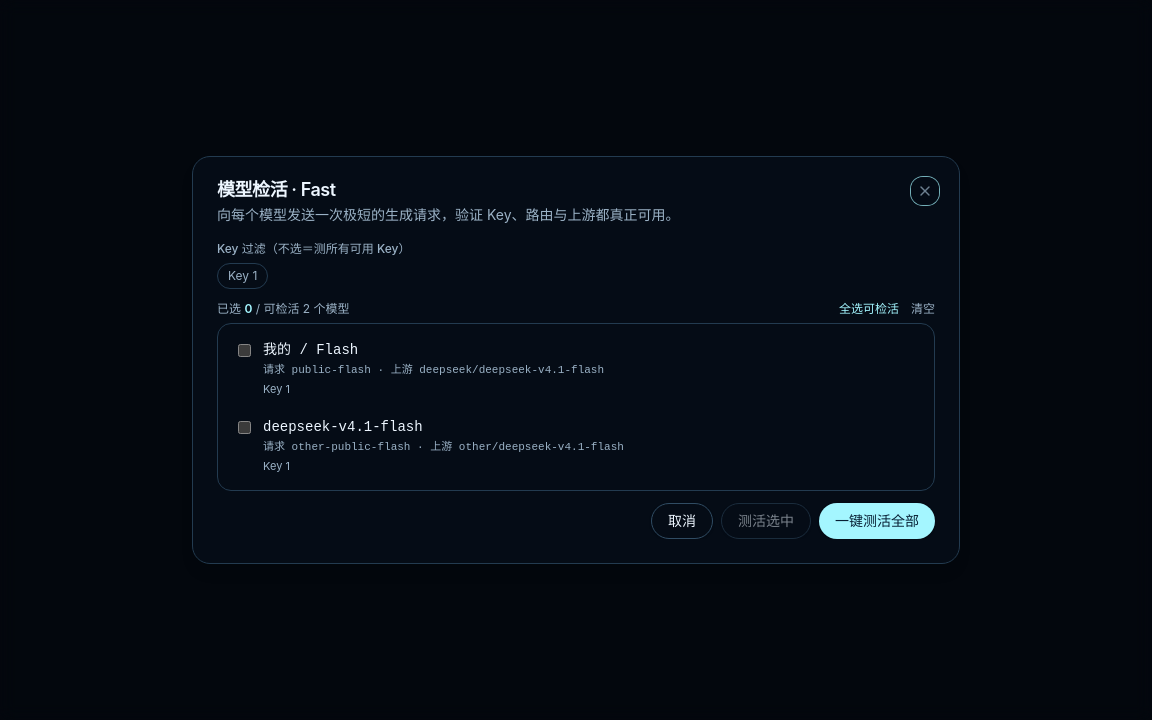
it: HealthCheckDialog › uses upstream display names in preview, retains full wire names, and selects original route IDs
Expected: the text "我的 / Flash" is shown, [263,340,358,360]
Expected: the text "deepseek-v4.1-flash" is shown, [263,417,423,437]
Click the checkbox labelled "我的 / Flash".
click(244, 350)  # box [238,344,251,357]
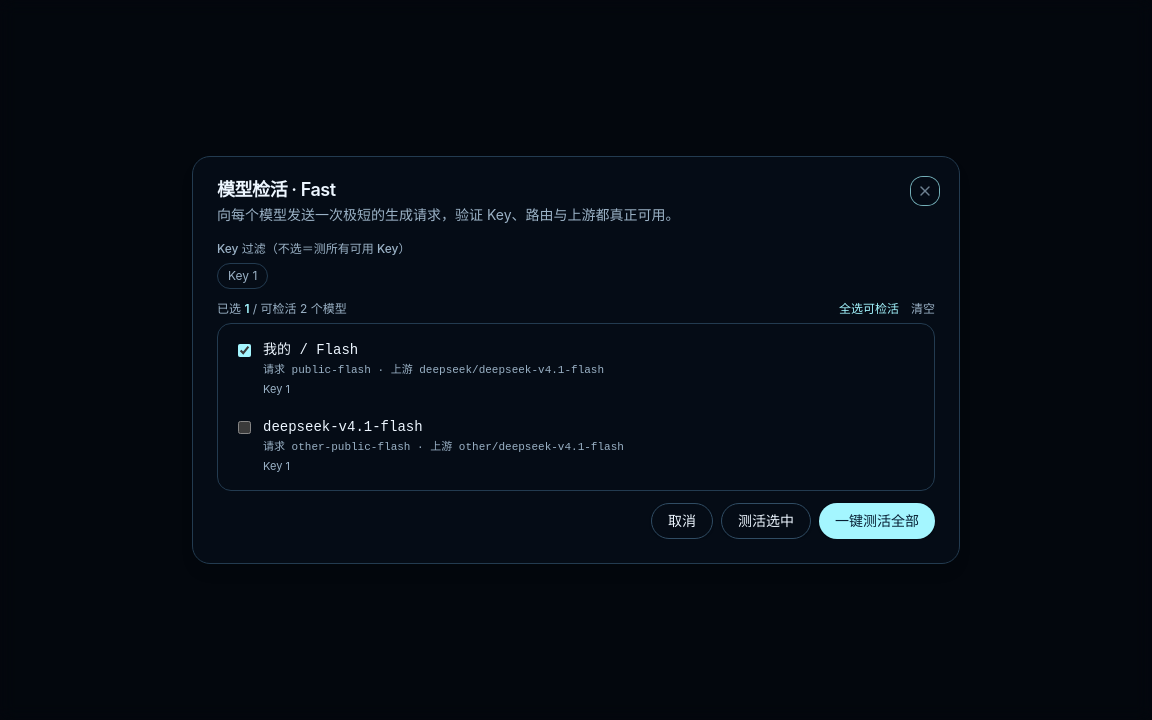
Expected: the checkbox labelled "我的 / Flash" is checked, [238,344,251,357]
Click the button "测活选中".
click(766, 521)  # box [721,503,811,539]
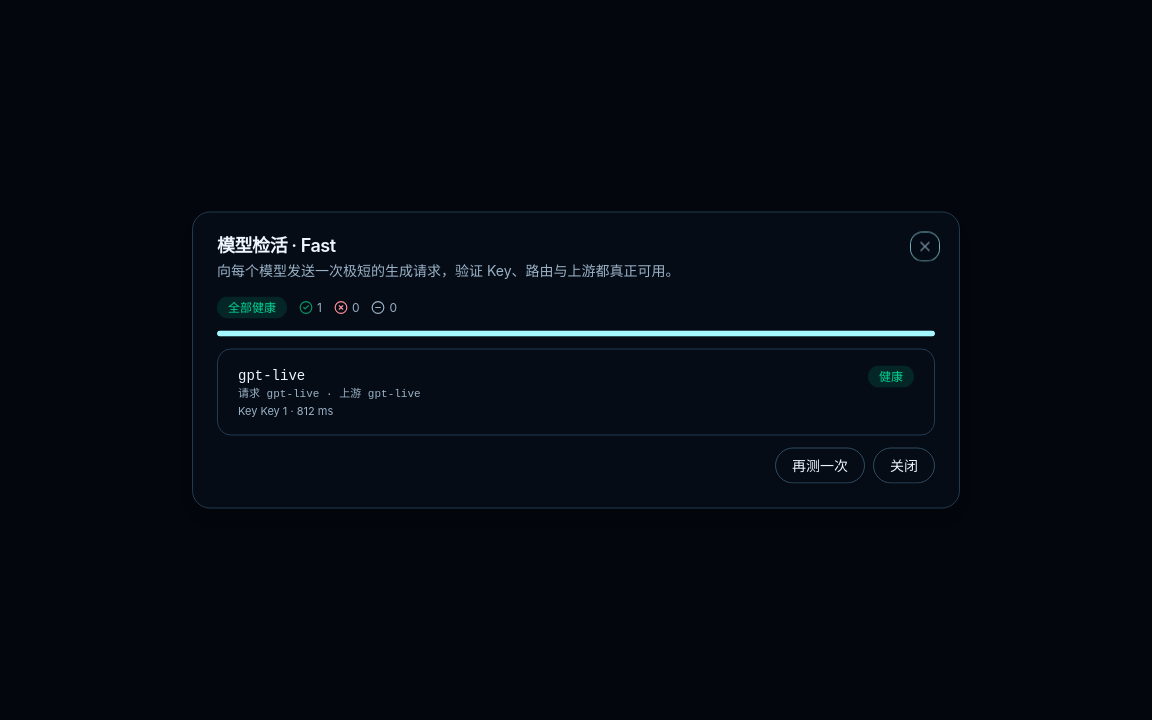
Expected: the text "全部健康" is shown, [217,296,287,318]
